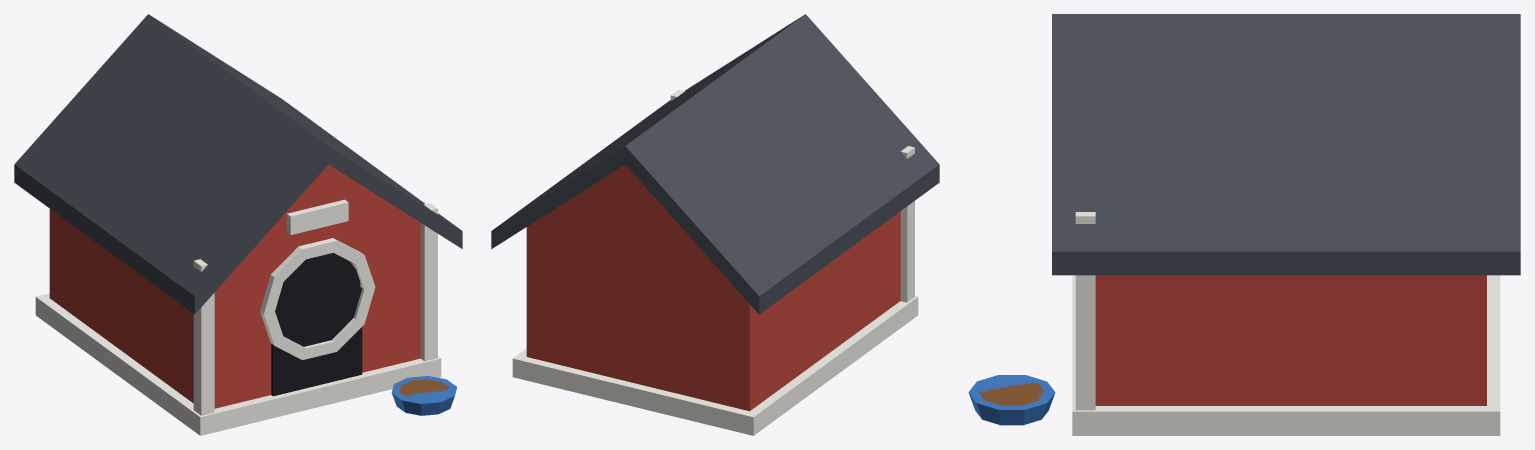
Rendered from prop_doghouse.glb.
3 views of the same model, side by side, from view 1: azimuth 30°, elevation 25°; view 2: azimuth 150°, elevation 25°; view 3: azimuth 270°, elevation 25° (orthographic). The views are drawn at different scales.
Visible parts, largest first — view 1: prop_doghouse; view 2: prop_doghouse; view 3: prop_doghouse.
Part boxes in pixels (<box>): prop_doghouse: <box>14,14,462,435</box>; prop_doghouse: <box>491,14,939,435</box>; prop_doghouse: <box>968,14,1520,435</box>.
Size of the model in its own units: 1.2 by 1.14 by 1.65.
